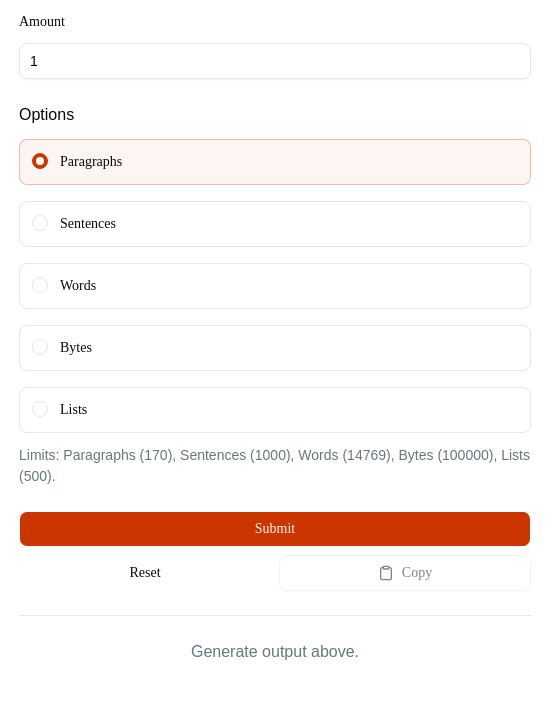
Test: LoremIpsum › shows a validation error when the amount is empty
Clear the number field labelled "Amount": (275, 61) [19,43,531,79]
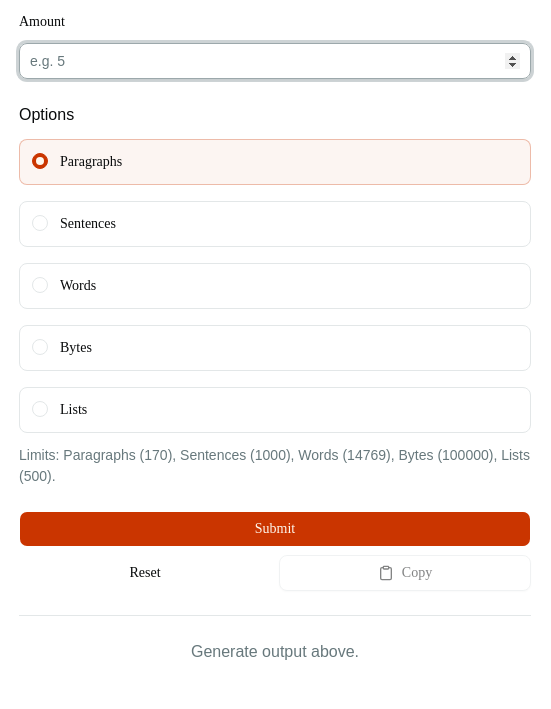
Click the button "Submit": (275, 529) [19,511,531,547]
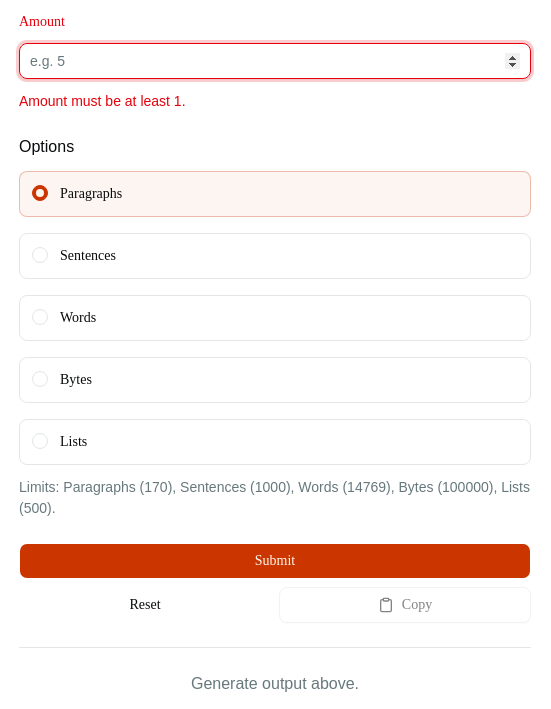
Expected: the text "Amount must be at least 1." is shown, [19,93,186,109]
